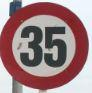Gioi han toc do: (1, 2, 89, 88)
